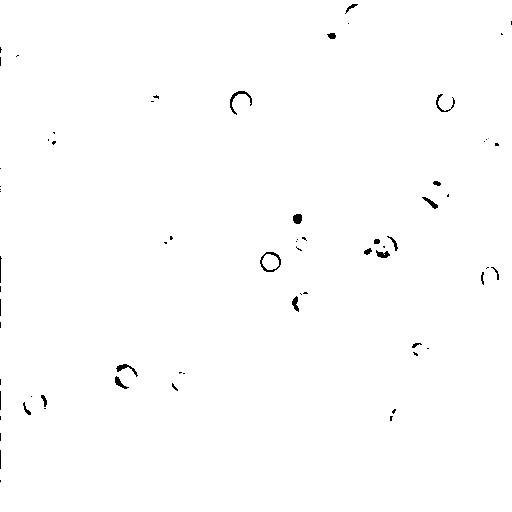micro-algae: (115, 0, 187, 58), (317, 251, 372, 298), (91, 371, 139, 418), (186, 249, 223, 288), (312, 17, 351, 52), (477, 129, 510, 169), (421, 172, 459, 205), (345, 231, 381, 264), (36, 121, 69, 156), (280, 199, 313, 234), (1, 382, 28, 418), (369, 231, 401, 261), (78, 142, 107, 171), (410, 197, 439, 225), (113, 361, 140, 389), (343, 1, 372, 27), (289, 289, 319, 314), (229, 89, 255, 117), (388, 405, 413, 434), (168, 369, 195, 395), (390, 10, 415, 38), (111, 13, 133, 44), (6, 51, 32, 76), (23, 392, 48, 418), (259, 250, 284, 276), (155, 1, 180, 24), (408, 338, 436, 358), (480, 265, 502, 289), (1, 441, 14, 480), (436, 90, 457, 114), (495, 11, 512, 39), (155, 225, 175, 245), (1, 292, 14, 321), (1, 255, 13, 284), (293, 236, 310, 252), (490, 94, 504, 111), (1, 47, 8, 64)
